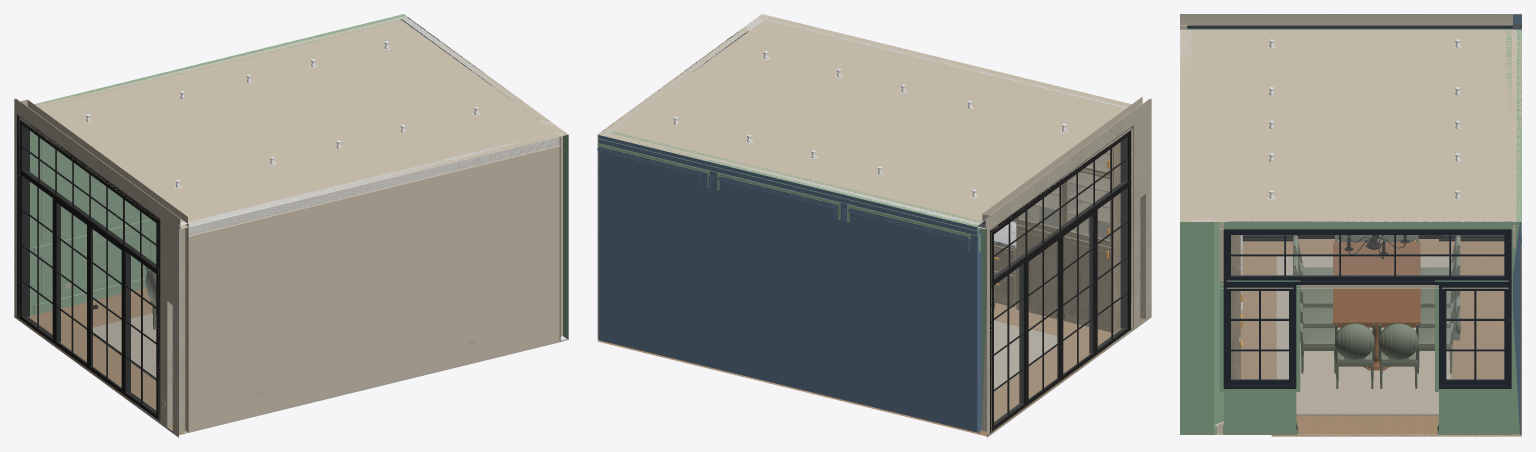
Rendered from dining-room-5306fa531655.glb.
3 renders of one model, left to right at view 1: azimuth 30°, elevation 25°; view 2: azimuth 150°, elevation 25°; view 3: azimuth 270°, elevation 25°, orthographic. The views are drawn at different scales.
Parts seen in each view (by area): view 1: dining-room-d999b7e09afcf2f4, dining-room-2575515a05775d9e, dining-room-08d72923bcfd3529, dining-room-b19b106fc304963c, dining-room-6ee65e99bea3721a, dining-room-3b0077416469e01b, dining-room-a6417c3a9acf4891, dining-room-9d465714b306dbae, dining-room-33ee0b466567e5f0, dining-room-871e2e831c6190fa, dining-room-d33eebe572d154f2, dining-room-8b1c368f4645b32b (+7 smaller); view 2: dining-room-b19b106fc304963c, dining-room-2575515a05775d9e, dining-room-08d72923bcfd3529, dining-room-6ee65e99bea3721a, dining-room-3b0077416469e01b, dining-room-1bf7a67d8ce0efe5, dining-room-039192b0560cfac3, dining-room-33ee0b466567e5f0, dining-room-871e2e831c6190fa, dining-room-2c2ea765d431e5a6, dining-room-478b3d72e55116fc, dining-room-8b1c368f4645b32b (+10 smaller); view 3: dining-room-2575515a05775d9e, dining-room-98d6adcddba0b27e, dining-room-31023c09b8d733cb, dining-room-3b0077416469e01b, dining-room-871e2e831c6190fa, dining-room-04e6278159fe4ee8, dining-room-ad953dfeb3e994ba, dining-room-9b21989b25895c4a, dining-room-1ce065e69c1a4746, dining-room-8d0c89bf27e198bd, dining-room-33ee0b466567e5f0, dining-room-d33eebe572d154f2 (+18 smaller).
Part boxes in pixels (<box>): dining-room-d999b7e09afcf2f4: <box>188,133,559,431</box>; dining-room-2575515a05775d9e: <box>15,14,568,229</box>; dining-room-08d72923bcfd3529: <box>17,114,160,421</box>; dining-room-b19b106fc304963c: <box>30,17,400,315</box>; dining-room-6ee65e99bea3721a: <box>18,109,175,432</box>; dining-room-3b0077416469e01b: <box>14,288,156,403</box>; dining-room-a6417c3a9acf4891: <box>188,136,560,236</box>; dining-room-9d465714b306dbae: <box>175,221,188,434</box>; dining-room-33ee0b466567e5f0: <box>18,99,187,225</box>; dining-room-871e2e831c6190fa: <box>86,313,156,380</box>; dining-room-d33eebe572d154f2: <box>556,132,568,341</box>; dining-room-8b1c368f4645b32b: <box>34,14,405,104</box>; dining-room-b19b106fc304963c: <box>597,133,980,432</box>; dining-room-2575515a05775d9e: <box>597,14,1150,229</box>; dining-room-08d72923bcfd3529: <box>990,126,1133,432</box>; dining-room-6ee65e99bea3721a: <box>982,108,1148,431</box>; dining-room-3b0077416469e01b: <box>597,319,1107,436</box>; dining-room-1bf7a67d8ce0efe5: <box>1016,142,1120,332</box>; dining-room-039192b0560cfac3: <box>977,216,991,434</box>; dining-room-33ee0b466567e5f0: <box>982,96,1151,222</box>; dining-room-871e2e831c6190fa: <box>994,320,1066,392</box>; dining-room-2c2ea765d431e5a6: <box>1069,243,1107,320</box>; dining-room-478b3d72e55116fc: <box>1020,231,1057,308</box>; dining-room-8b1c368f4645b32b: <box>597,138,979,235</box>; dining-room-2575515a05775d9e: <box>1180,14,1521,221</box>; dining-room-98d6adcddba0b27e: <box>1223,229,1511,284</box>; dining-room-31023c09b8d733cb: <box>1223,219,1521,434</box>; dining-room-3b0077416469e01b: <box>1271,239,1521,436</box>; dining-room-871e2e831c6190fa: <box>1276,256,1451,415</box>; dining-room-04e6278159fe4ee8: <box>1223,285,1296,388</box>; dining-room-ad953dfeb3e994ba: <box>1439,285,1511,388</box>; dining-room-9b21989b25895c4a: <box>1191,218,1223,434</box>; dining-room-1ce065e69c1a4746: <box>1333,242,1420,370</box>; dining-room-8d0c89bf27e198bd: <box>1216,241,1271,434</box>; dining-room-33ee0b466567e5f0: <box>1180,14,1512,25</box>; dining-room-d33eebe572d154f2: <box>1180,222,1191,434</box>.
Bounding box in the file's own units: 5.95 × 3.19 × 4.36.
40 materials, 10 textured.
